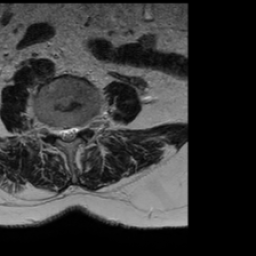CCS_severe_stenosis: (64, 119, 71, 144)
LFS_stenosis: (78, 116, 87, 138)
LLS_normal: (71, 119, 78, 142)
RFS_normal: (48, 117, 57, 140)
RLS_normal: (57, 120, 64, 142)
